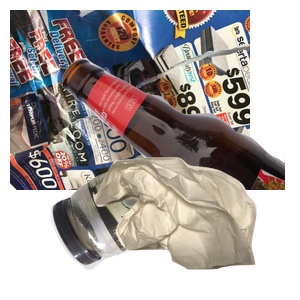glass: (60, 56, 300, 236)
paper: (10, 10, 250, 190)
plastic: (48, 152, 228, 300)
trash: (90, 155, 300, 300)
